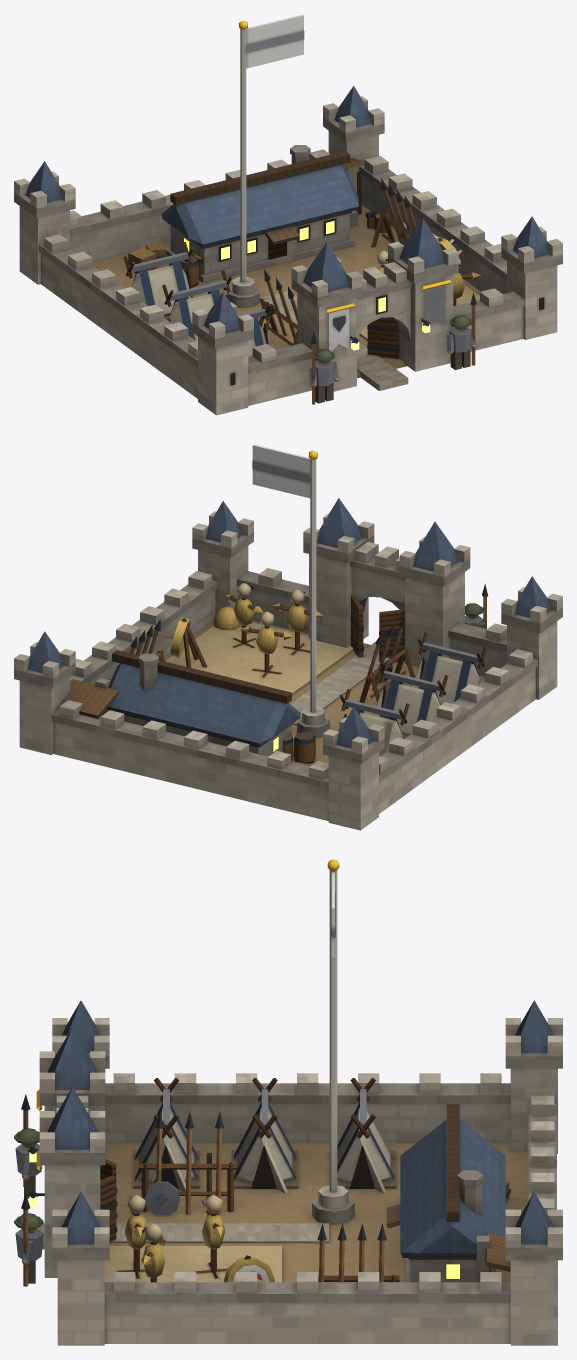
The model's file is military_base.glb.
3 views of the same model, one above another, from view 1: azimuth 30°, elevation 25°; view 2: azimuth 150°, elevation 25°; view 3: azimuth 270°, elevation 25° (orthographic). The views are drawn at different scales.
Parts seen in each view (by area): view 1: military_base; view 2: military_base; view 3: military_base.
Part boxes in pixels (box(x1,y1,x2,y2)): military_base: box(14, 14, 562, 415); military_base: box(14, 444, 562, 830); military_base: box(14, 859, 562, 1345).
Bounding box in the file's own units: 1.19 × 0.9593 × 1.28.
Materials: 4 (1 with a texture image).
